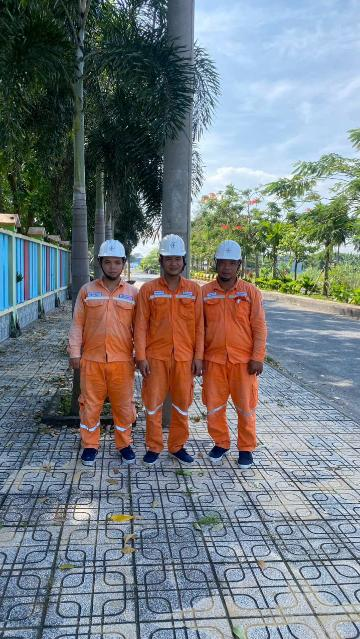helmet: (85, 233, 138, 262), (153, 234, 201, 261), (210, 236, 247, 266)
shoes: (231, 440, 271, 471), (65, 439, 104, 466), (164, 441, 197, 472), (205, 437, 233, 470), (111, 440, 140, 471), (138, 441, 166, 472)
